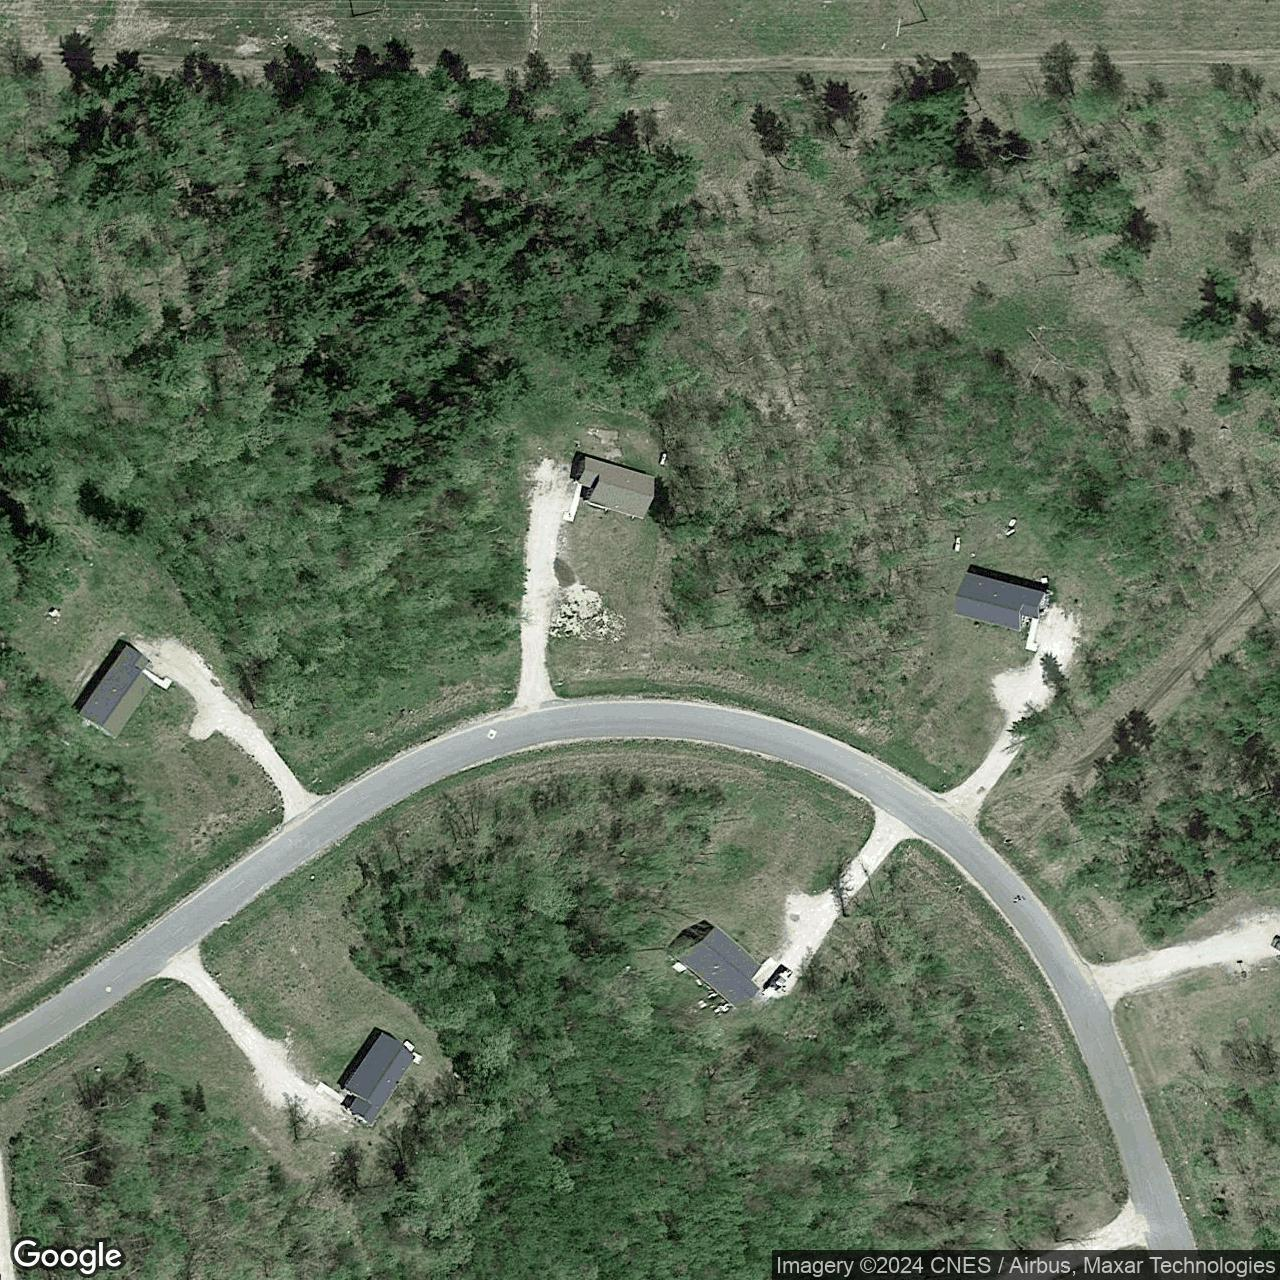House: (670, 921, 762, 1014), (76, 642, 155, 741), (341, 1030, 417, 1126), (952, 568, 1050, 633), (572, 455, 656, 523)
Propane: (951, 533, 962, 554), (656, 451, 669, 468)
